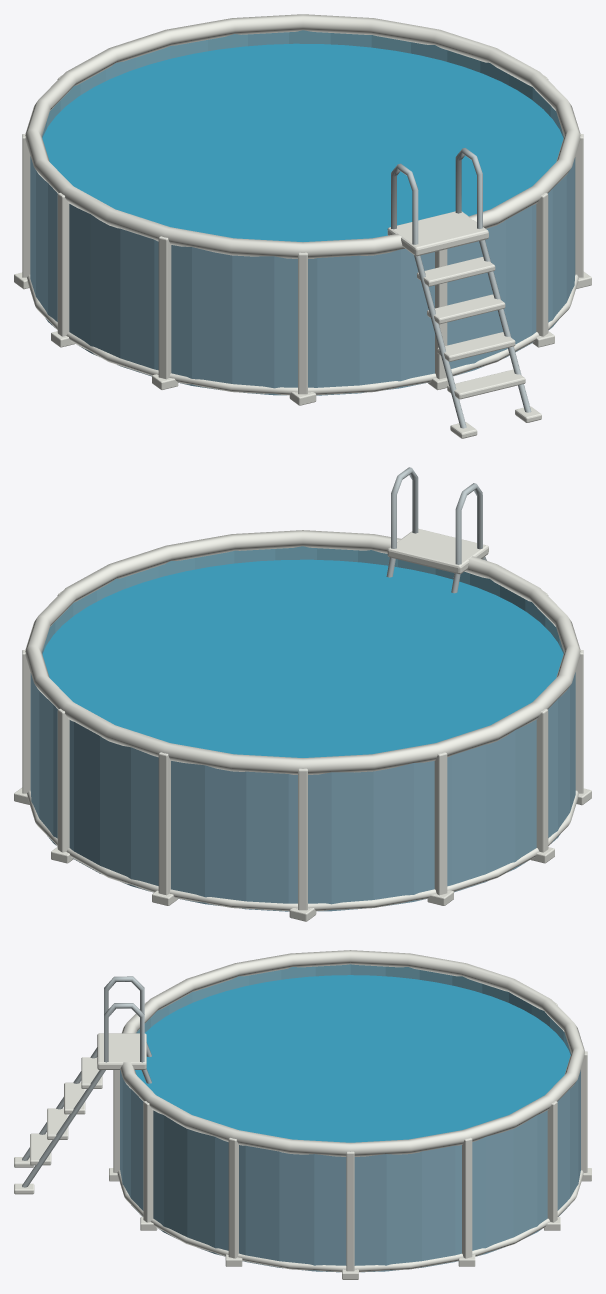
File: pool_round_above_ground.glb
3 renders of one model, top to bottom at view 1: azimuth 30°, elevation 25°; view 2: azimuth 150°, elevation 25°; view 3: azimuth 270°, elevation 25°, orthographic. The views are drawn at different scales.
Visible parts, largest first — view 1: Opaque round water surface, Round above-ground pool shell, Pool continuous upper rim, Pool lower rim, Ladder rim platform, Outside ladder rail, Exterior pool support upright.007, Outside ladder rail.001, Exterior pool support upright.006, Exterior pool support upright.010, Exterior pool support upright.008, Exterior pool support upright.005 (+6 smaller); view 2: Opaque round water surface, Round above-ground pool shell, Pool continuous upper rim, Pool lower rim, Ladder rim platform, Exterior pool support upright.005, Exterior pool support upright.003, Exterior pool support upright.002, Exterior pool support upright.006, Exterior pool support upright.004, Exterior pool support upright.001, Exterior pool support upright.007 (+2 smaller); view 3: Opaque round water surface, Round above-ground pool shell, Pool continuous upper rim, Pool lower rim, Outside ladder rail.001, Ladder rim platform, Exterior pool support upright.011, Exterior pool support upright.001, Exterior pool support upright.002, Exterior pool support upright.010, Exterior pool support upright, Outside ladder rail (+6 smaller).
Boxes of the visible parts, x1=… form: Opaque round water surface: x1=42, y1=43, x2=563, y2=241; Round above-ground pool shell: x1=30, y1=30, x2=575, y2=395; Pool continuous upper rim: x1=25, y1=14, x2=580, y2=258; Pool lower rim: x1=27, y1=274, x2=578, y2=395; Ladder rim platform: x1=387, y1=211, x2=488, y2=256; Outside ladder rail: x1=391, y1=163, x2=466, y2=428; Exterior pool support upright.007: x1=158, y1=236, x2=171, y2=379; Outside ladder rail.001: x1=455, y1=148, x2=531, y2=412; Exterior pool support upright.006: x1=57, y1=192, x2=69, y2=336; Exterior pool support upright.010: x1=536, y1=192, x2=548, y2=336; Exterior pool support upright.008: x1=298, y1=252, x2=307, y2=394; Exterior pool support upright.005: x1=22, y1=134, x2=30, y2=277; Opaque round water surface: x1=42, y1=559, x2=563, y2=757; Round above-ground pool shell: x1=30, y1=546, x2=575, y2=911; Pool continuous upper rim: x1=25, y1=530, x2=580, y2=774; Pool lower rim: x1=27, y1=790, x2=578, y2=911; Ladder rim platform: x1=387, y1=528, x2=488, y2=574; Exterior pool support upright.005: x1=434, y1=752, x2=447, y2=895; Exterior pool support upright.003: x1=158, y1=752, x2=170, y2=895; Exterior pool support upright.002: x1=57, y1=708, x2=69, y2=852; Exterior pool support upright.006: x1=536, y1=708, x2=548, y2=852; Exterior pool support upright.004: x1=298, y1=768, x2=307, y2=910; Exterior pool support upright.001: x1=22, y1=650, x2=30, y2=793; Exterior pool support upright.007: x1=575, y1=650, x2=583, y2=793; Opaque round water surface: x1=135, y1=975, x2=570, y2=1142; Round above-ground pool shell: x1=120, y1=964, x2=580, y2=1272; Pool continuous upper rim: x1=120, y1=950, x2=584, y2=1156; Pool lower rim: x1=117, y1=1170, x2=583, y2=1272; Outside ladder rail.001: x1=22, y1=1003, x2=151, y2=1187; Ladder rim platform: x1=97, y1=1033, x2=146, y2=1069; Exterior pool support upright.011: x1=228, y1=1137, x2=238, y2=1258; Exterior pool support upright.001: x1=462, y1=1137, x2=472, y2=1258; Exterior pool support upright.002: x1=547, y1=1101, x2=557, y2=1222; Exterior pool support upright.010: x1=143, y1=1101, x2=153, y2=1222; Exterior pool support upright: x1=346, y1=1151, x2=354, y2=1271; Outside ladder rail: x1=22, y1=976, x2=151, y2=1160.
Size of the model in its own units: 4.29 by 1.84 by 5.13.
